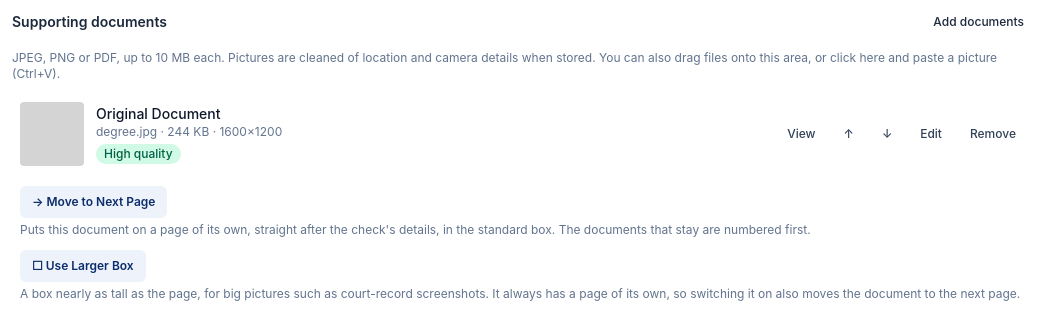
Test: CheckDocuments › shows the change on screen after saving
Click the button with aria-label "Move Original Document to the next page": (94, 202) 20,186 -> 167,218
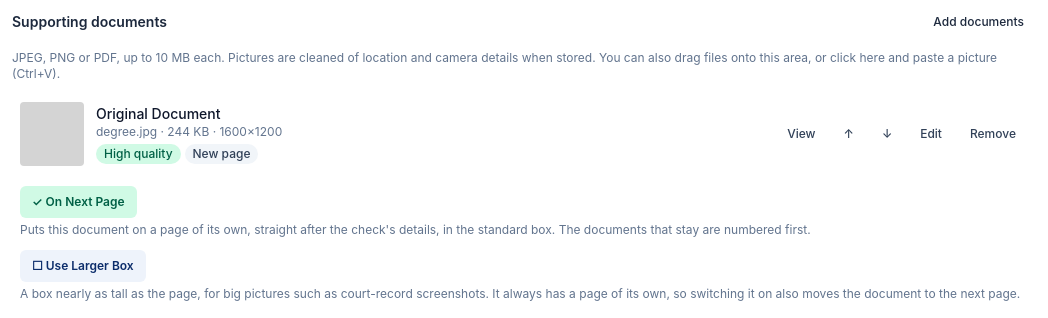
expect the button with aria-label "Move Original Document to the next page" reads "✓ On Next Page": met, box 20,186 -> 137,218
expect the text "New page" is shown: met, box 184,144 -> 258,164
